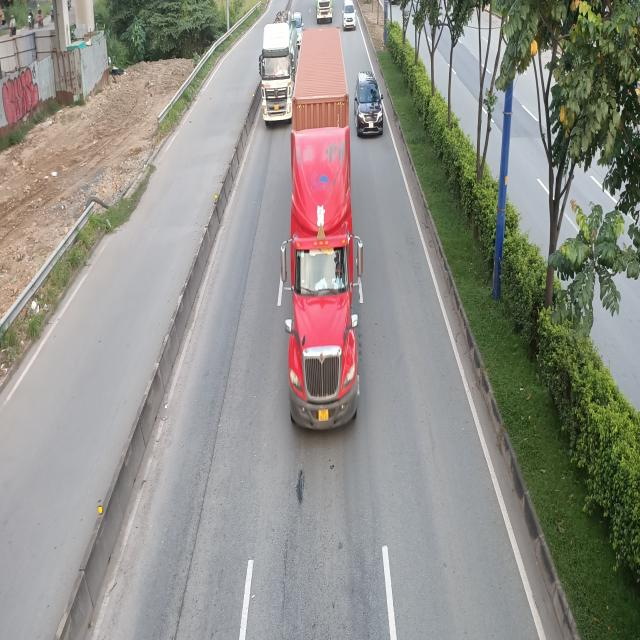car: (354, 74, 383, 139), (342, 0, 357, 29)
container: (277, 34, 360, 433), (260, 7, 302, 126)
